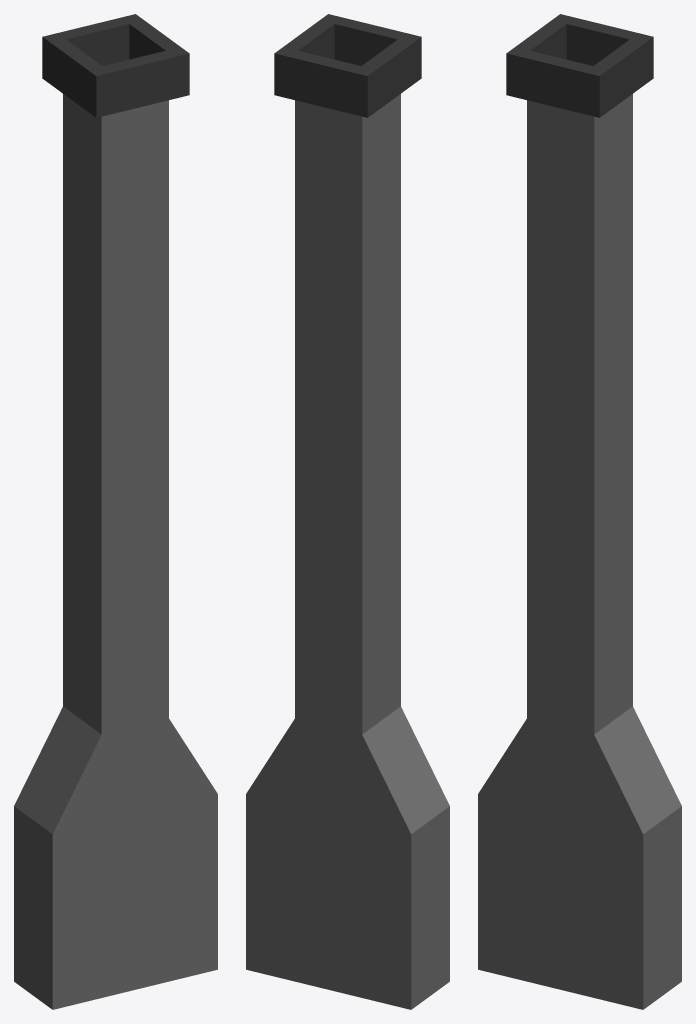
Rendered from Chimney3_C3.fbx.
The picture shows the model from 3 angles, left to right: view 1: azimuth 30°, elevation 25°; view 2: azimuth 150°, elevation 25°; view 3: azimuth 330°, elevation 25°; orthographic projection.
Visible parts, largest first — view 1: Chimney3_C3; view 2: Chimney3_C3; view 3: Chimney3_C3.
Boxes of the visible parts, x1,y1,x2,y2 form: Chimney3_C3: [14, 14, 217, 1009]; Chimney3_C3: [246, 14, 449, 1009]; Chimney3_C3: [478, 14, 681, 1009].
Bounding box in the file's own units: 98.47 × 530 × 55.59.
